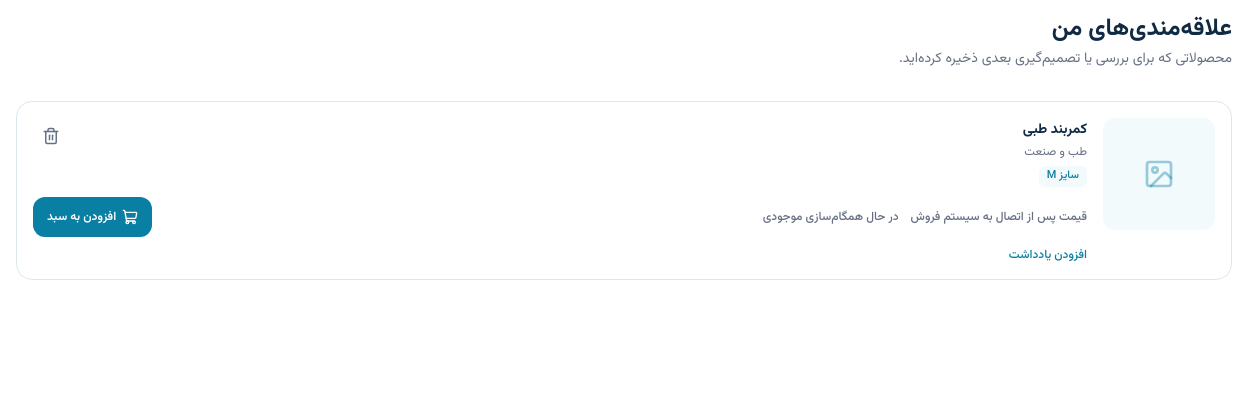
WishlistPage › saves a note edit without a page reload
Expected: the link "کمربند طبی" is shown, [1023, 119, 1087, 141]
Click the button "افزودن یادداشت" at (1048, 255), box [1009, 247, 1087, 263]
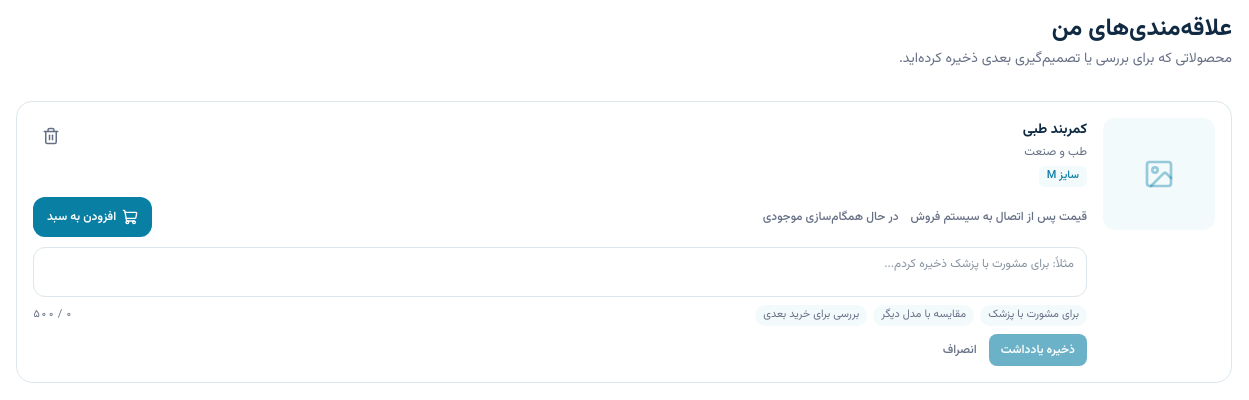
Type "برای مشورت با پزشک ذخیره کردم" into the text box with placeholder "مثلاً: برای مشورت با پزشک ذخیره کردم..." at (560, 272), box [33, 247, 1087, 297]
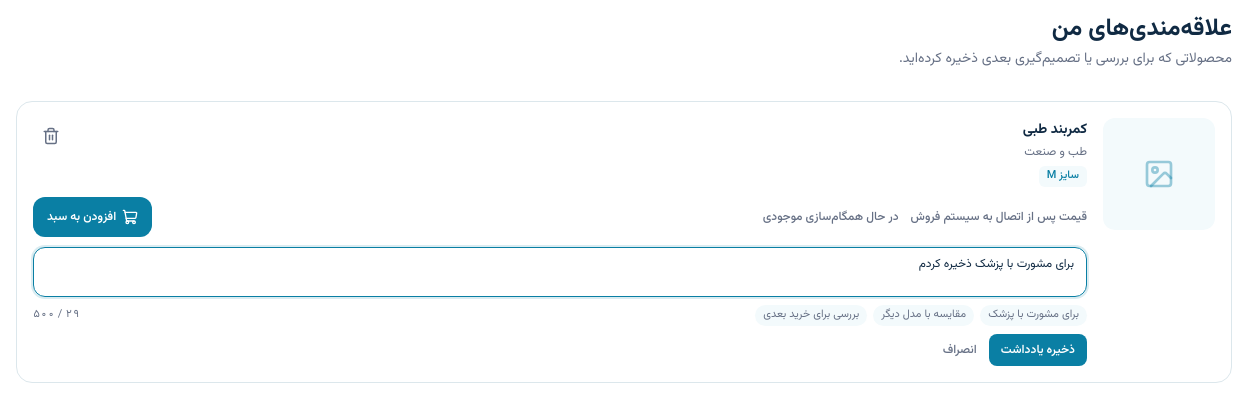
Click the button "ذخیره یادداشت" at (1038, 350), box [989, 334, 1087, 366]
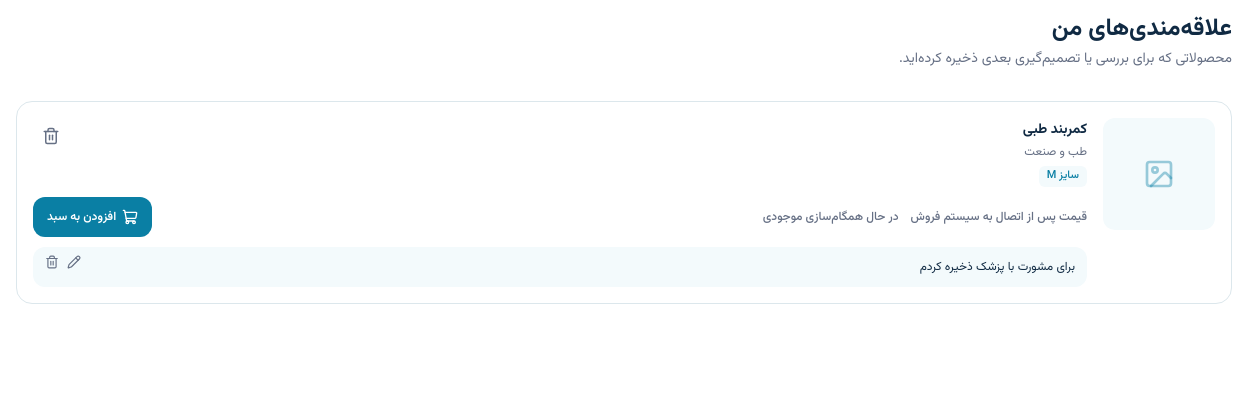
Expected: the text "برای مشورت با پزشک ذخیره کردم" is shown, [920, 258, 1075, 276]
